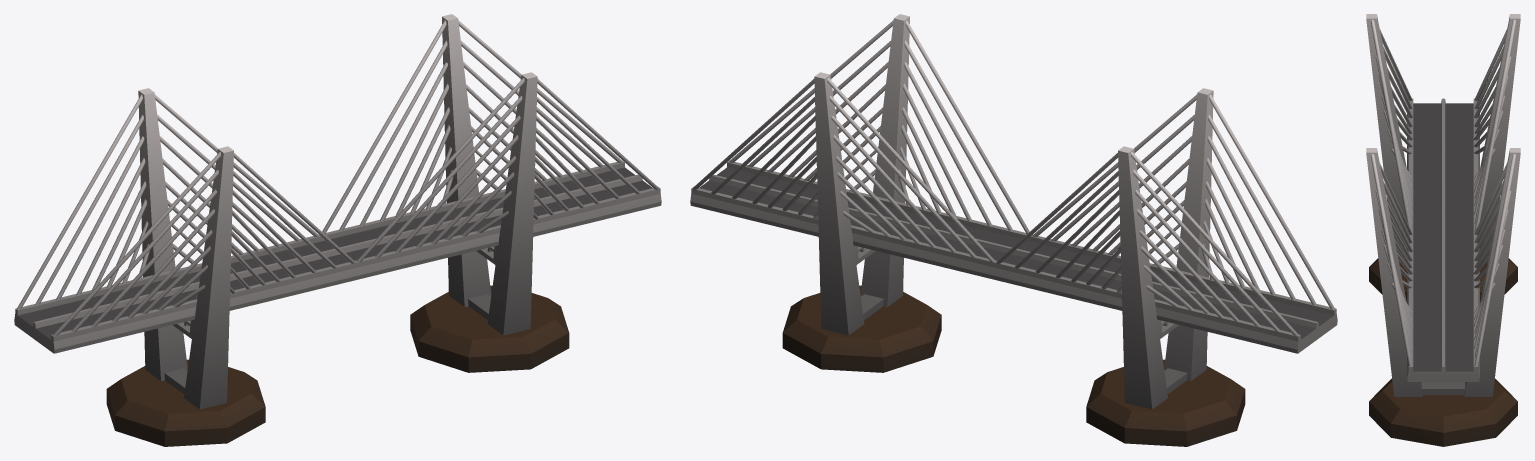
File: bridge.glb
The picture shows the model from 3 angles, left to right: view 1: azimuth 30°, elevation 25°; view 2: azimuth 150°, elevation 25°; view 3: azimuth 270°, elevation 25°; orthographic projection. The views are drawn at different scales.
Parts seen in each view (by area): view 1: мост; view 2: мост; view 3: мост.
Part boxes in pixels (left/top/right/bottom): мост: left=14, top=14, right=661, bottom=446; мост: left=690, top=14, right=1337, bottom=446; мост: left=1366, top=14, right=1520, bottom=446.
Size of the model in its own units: 19.35 by 8.92 by 4.71.
Materials: 1 (1 with a texture image).
